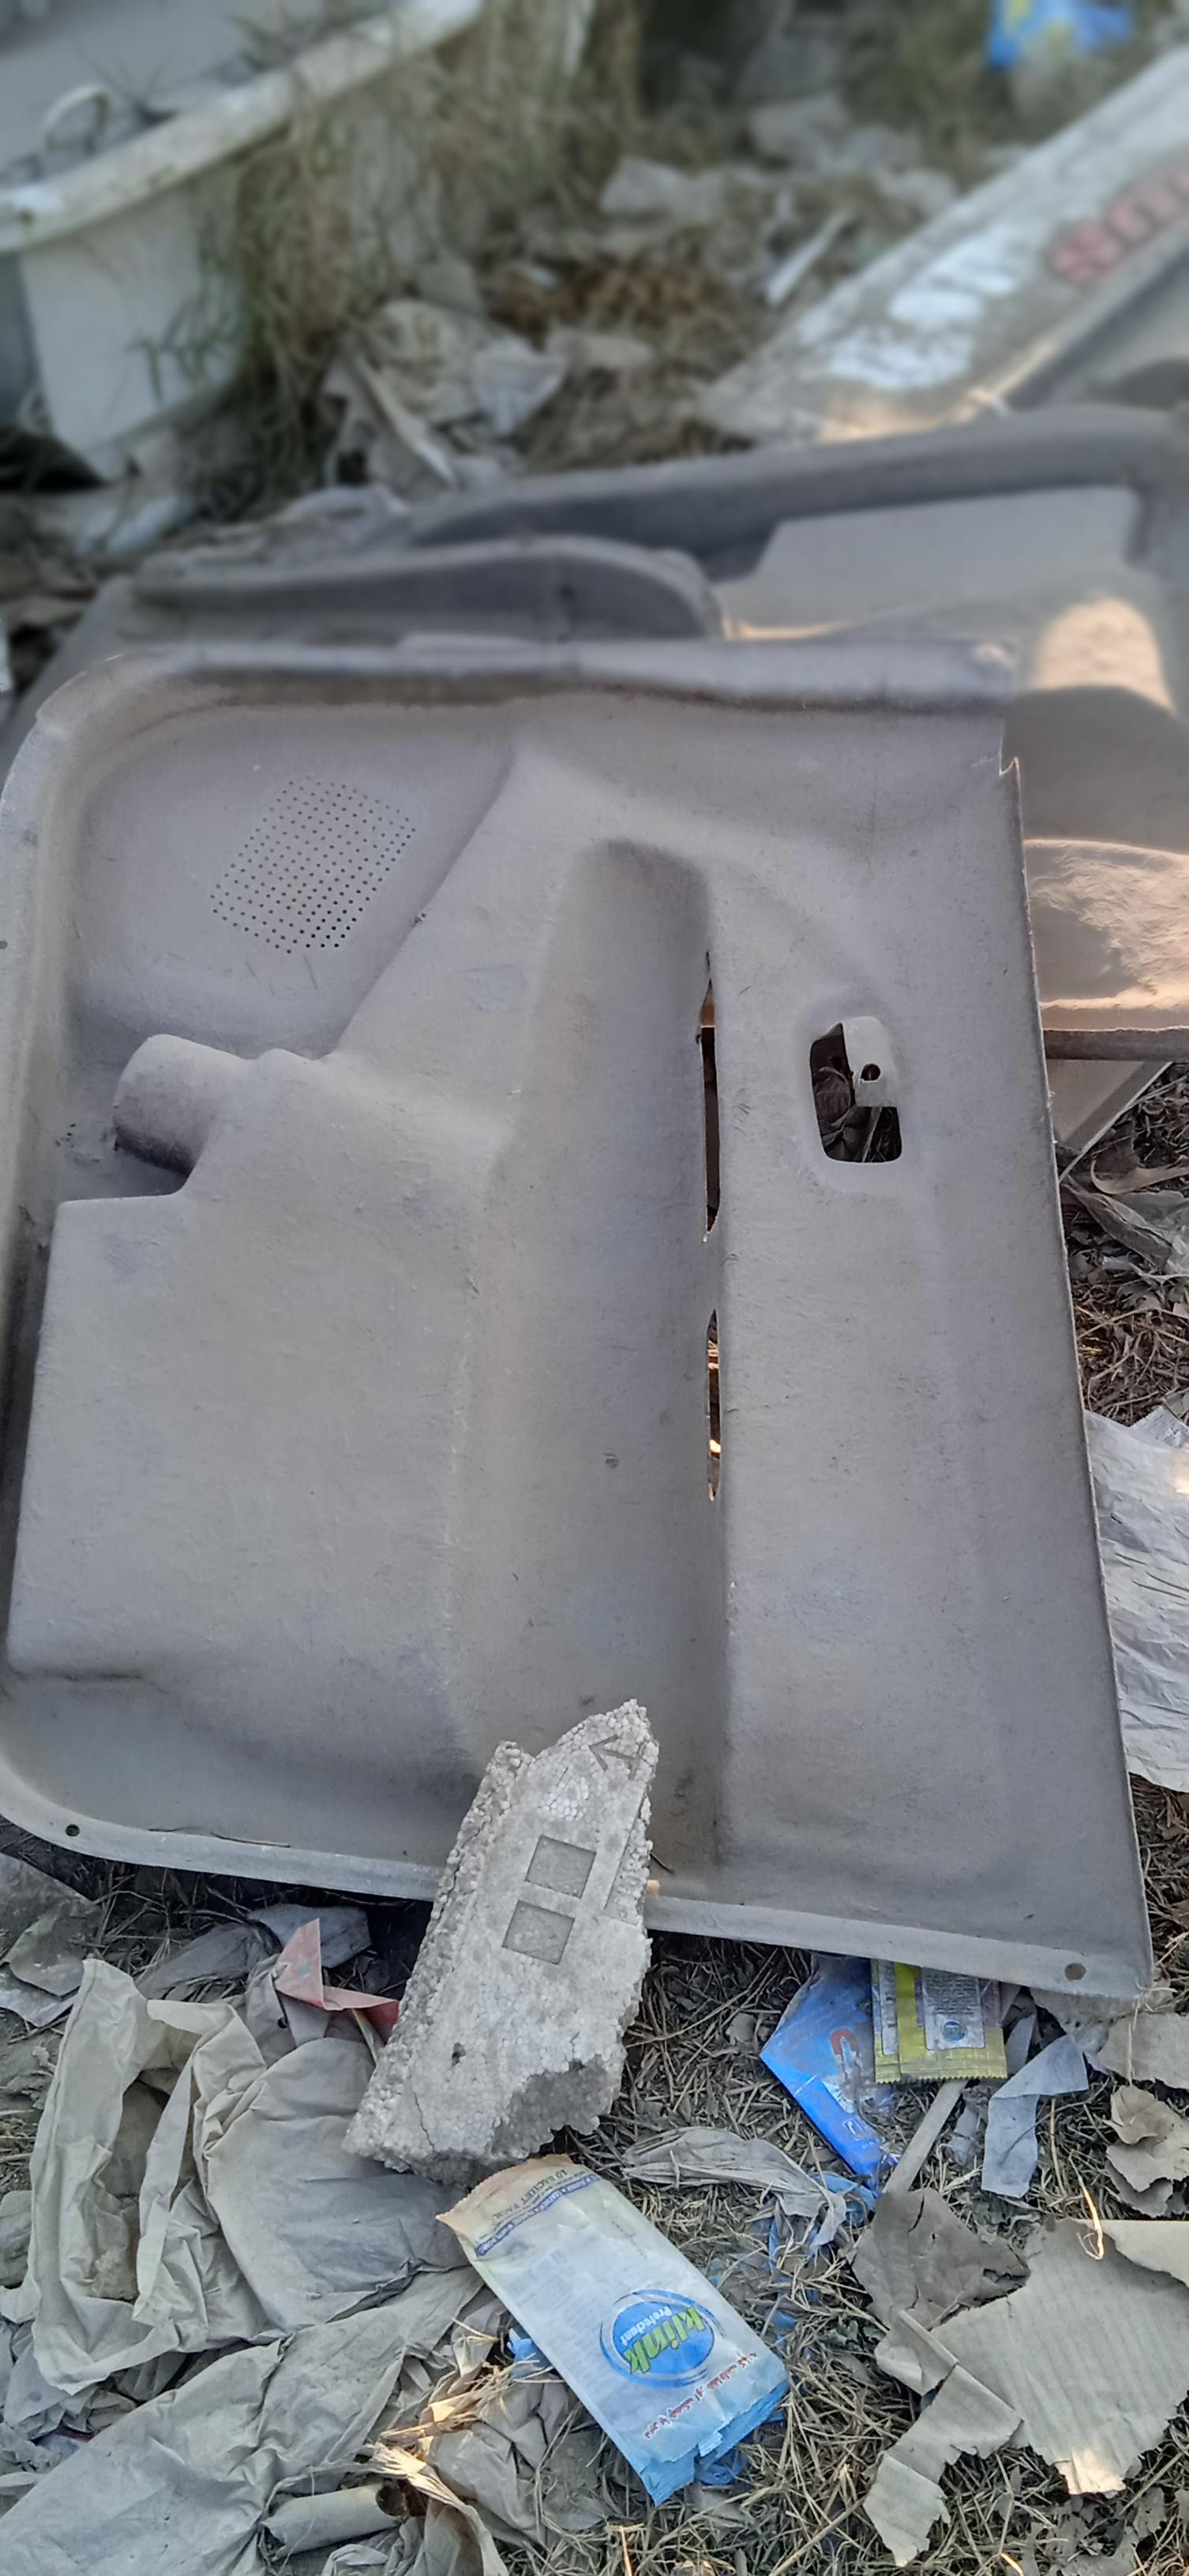automobile: (0, 647, 1177, 2039)
